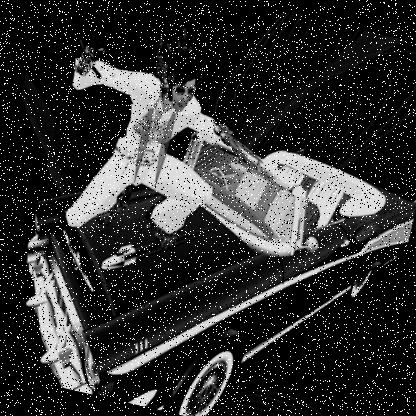Car: (0, 88, 415, 415)
